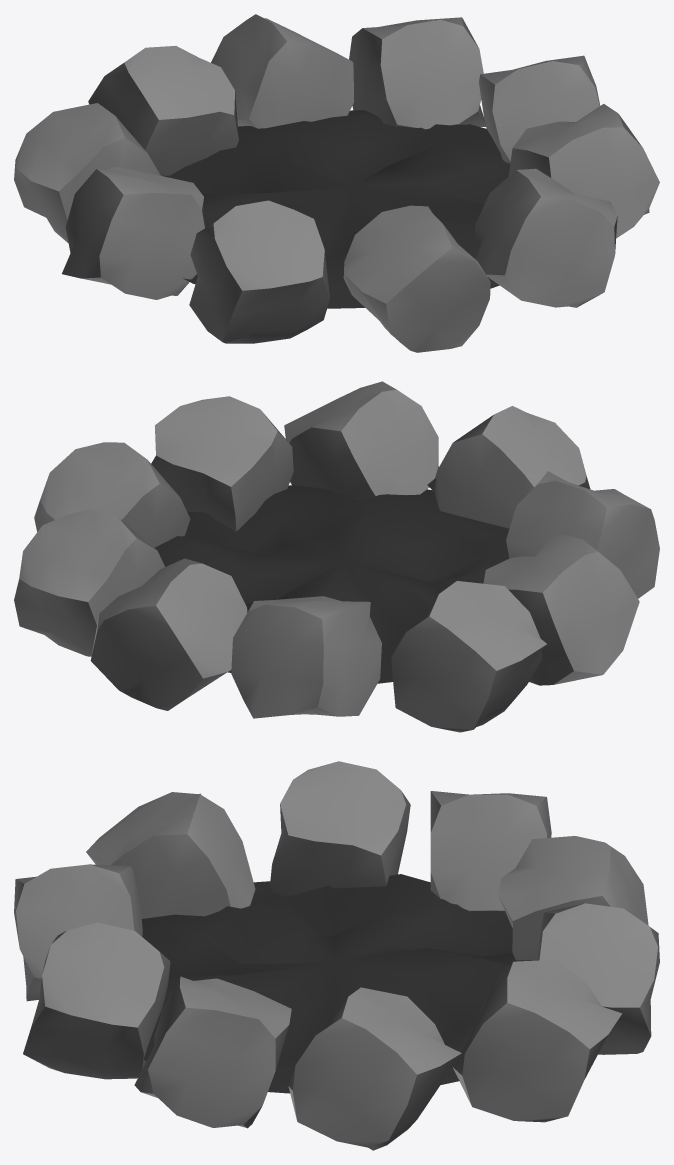
Rendered from Mesh_Campfire_TL.fbx.
3 views of the same model, one above another, from view 1: azimuth 30°, elevation 25°; view 2: azimuth 150°, elevation 25°; view 3: azimuth 270°, elevation 25° (orthographic). The views are drawn at different scales.
Parts seen in each view (by area): view 1: Mesh_Campfire_TL; view 2: Mesh_Campfire_TL; view 3: Mesh_Campfire_TL.
Part boxes in pixels (<box>): Mesh_Campfire_TL: <box>14,14,659,352</box>; Mesh_Campfire_TL: <box>14,381,659,732</box>; Mesh_Campfire_TL: <box>14,761,659,1150</box>.
Bounding box in the file's own units: 179 × 37.96 × 167.
